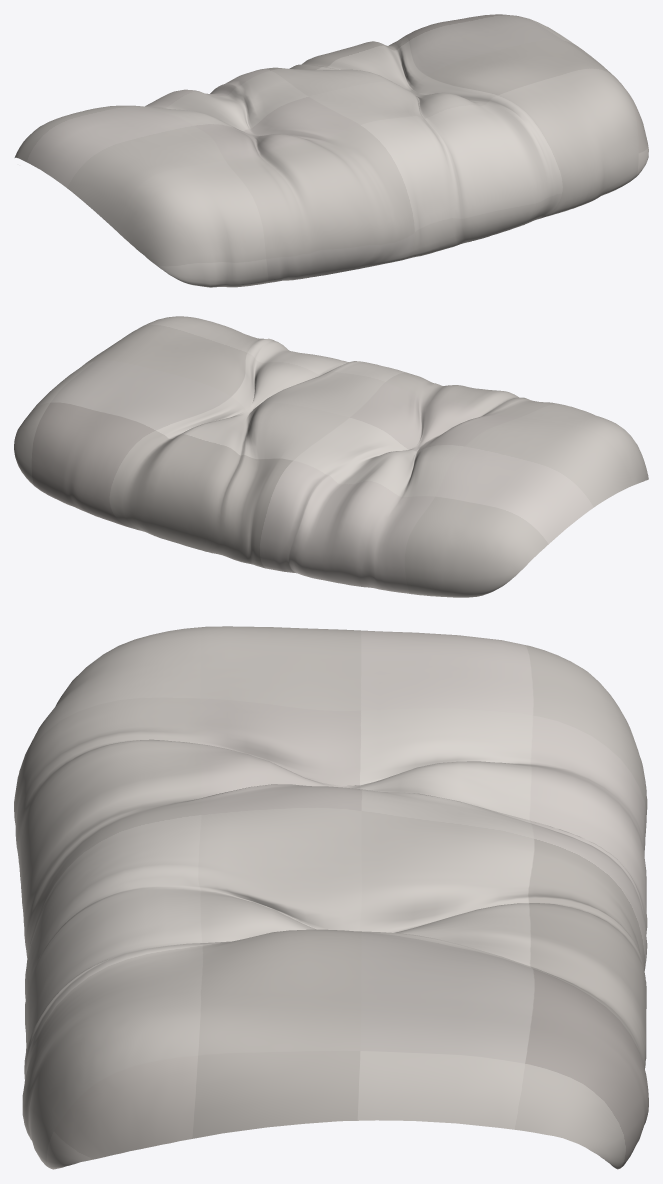
File: cushion.glb
3 renders of one model, top to bottom at view 1: azimuth 30°, elevation 25°; view 2: azimuth 150°, elevation 25°; view 3: azimuth 270°, elevation 25°, orthographic. The views are drawn at different scales.
Visible parts, largest first — view 1: Layer 02; view 2: Layer 02; view 3: Layer 02.
Part boxes in pixels (left/top/right/bottom): Layer 02: left=14, top=14, right=648, bottom=287; Layer 02: left=14, top=316, right=648, bottom=597; Layer 02: left=14, top=626, right=648, bottom=1169.
Size of the model in its own units: 895 by 171 by 512.
1 material, 1 textured.
